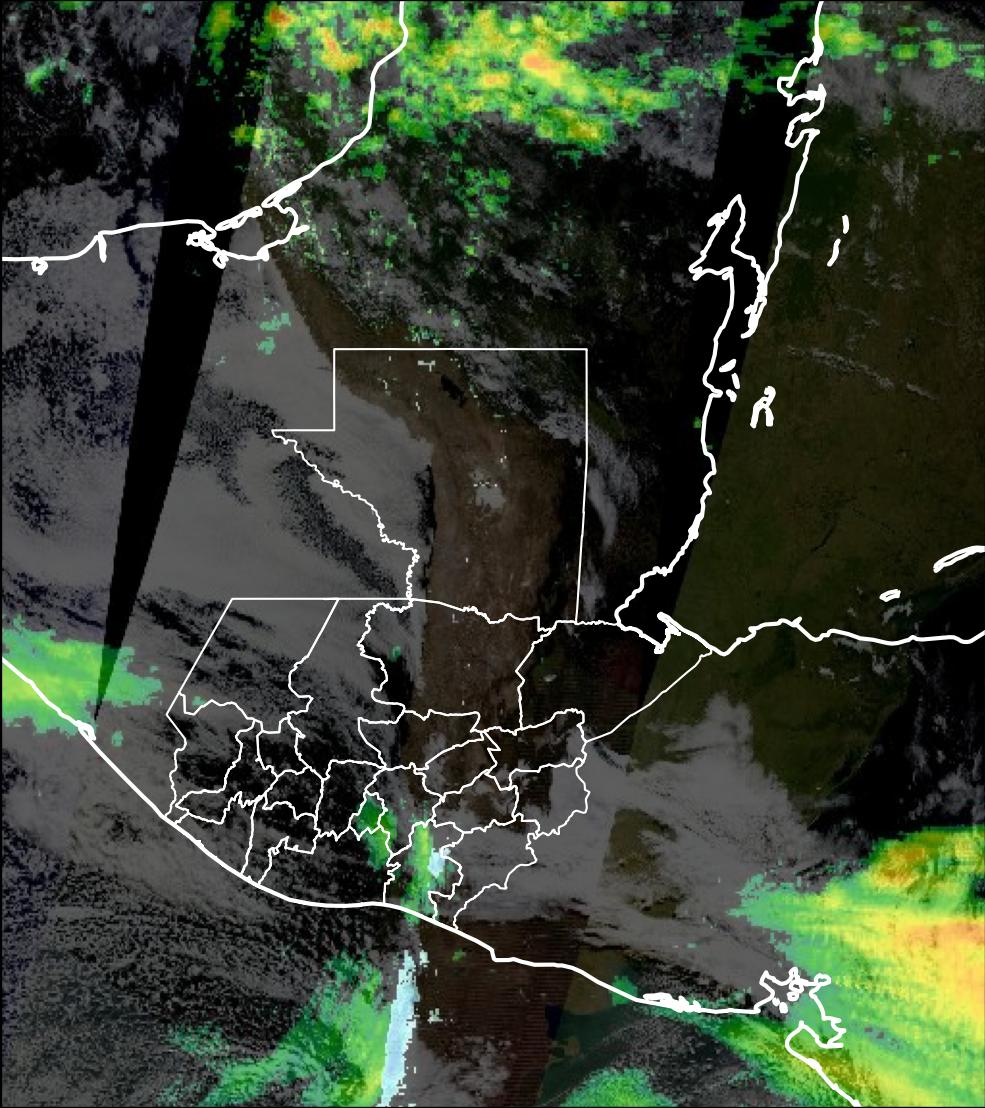precipitacion: (869, 910, 985, 1043), (515, 37, 583, 92)
